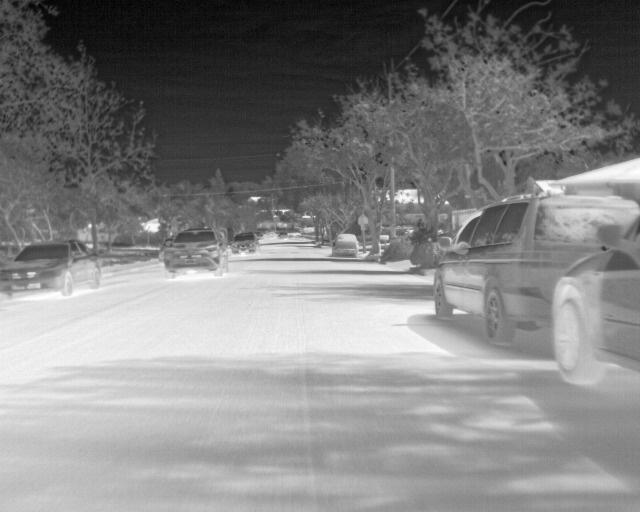car: (434, 195, 635, 343), (552, 214, 639, 388), (0, 240, 101, 298), (162, 228, 230, 278), (230, 230, 258, 255), (332, 233, 358, 257), (275, 230, 287, 240)
